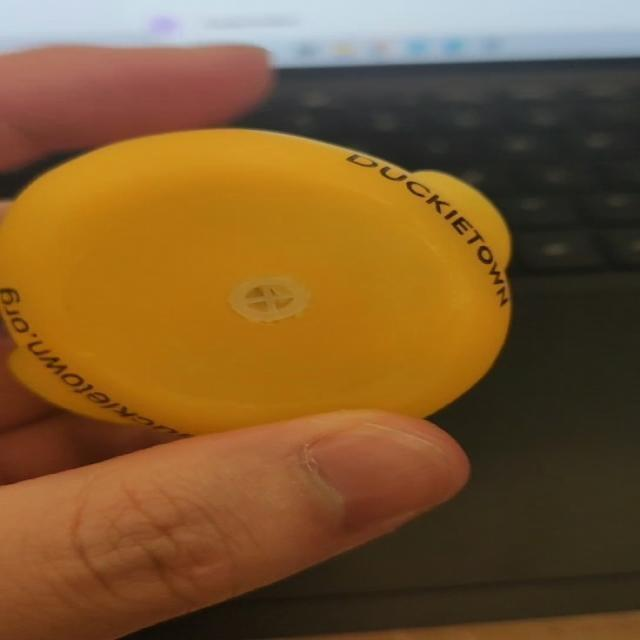rubber-duck: (0, 128, 509, 431)
